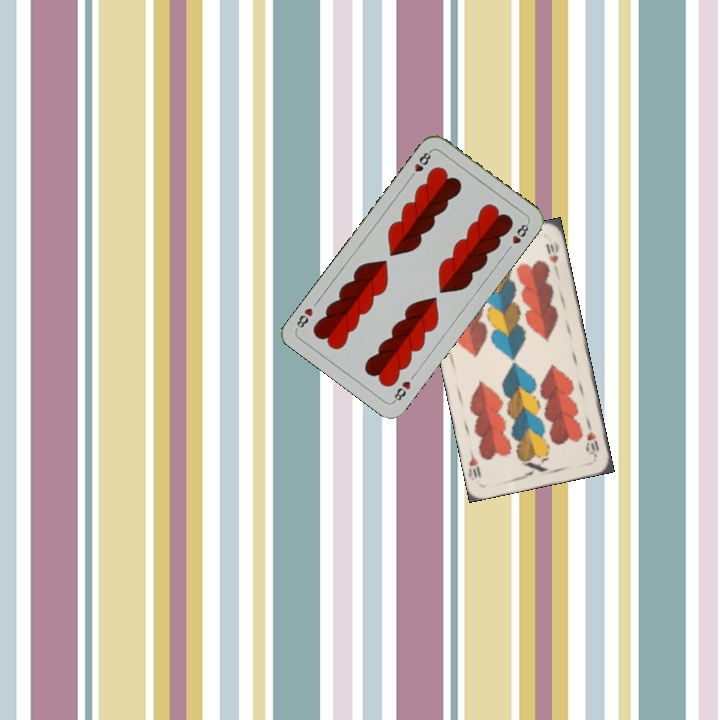H10: (583, 419, 602, 459)
H8: (405, 147, 434, 182), (389, 377, 413, 405)
